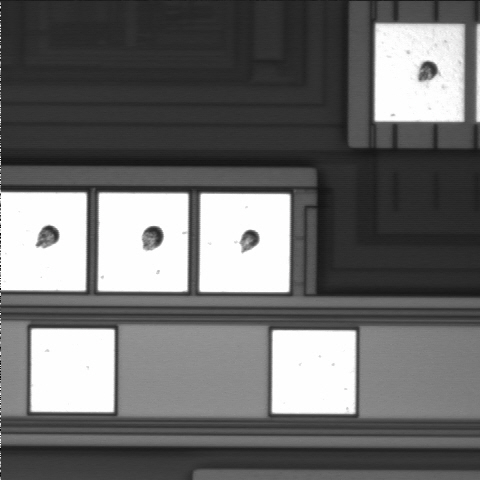pad: (199, 194, 290, 292), (98, 193, 188, 292), (375, 24, 464, 122), (272, 330, 356, 414), (31, 329, 114, 412)
